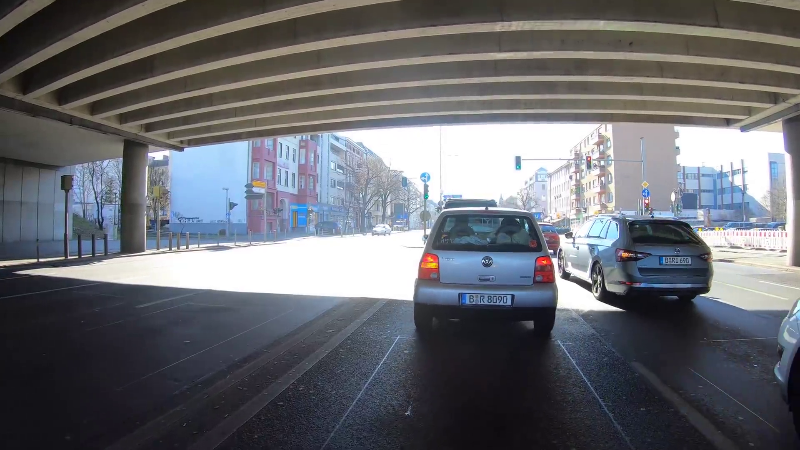Plate: (460, 293, 512, 306), (655, 254, 693, 266)
